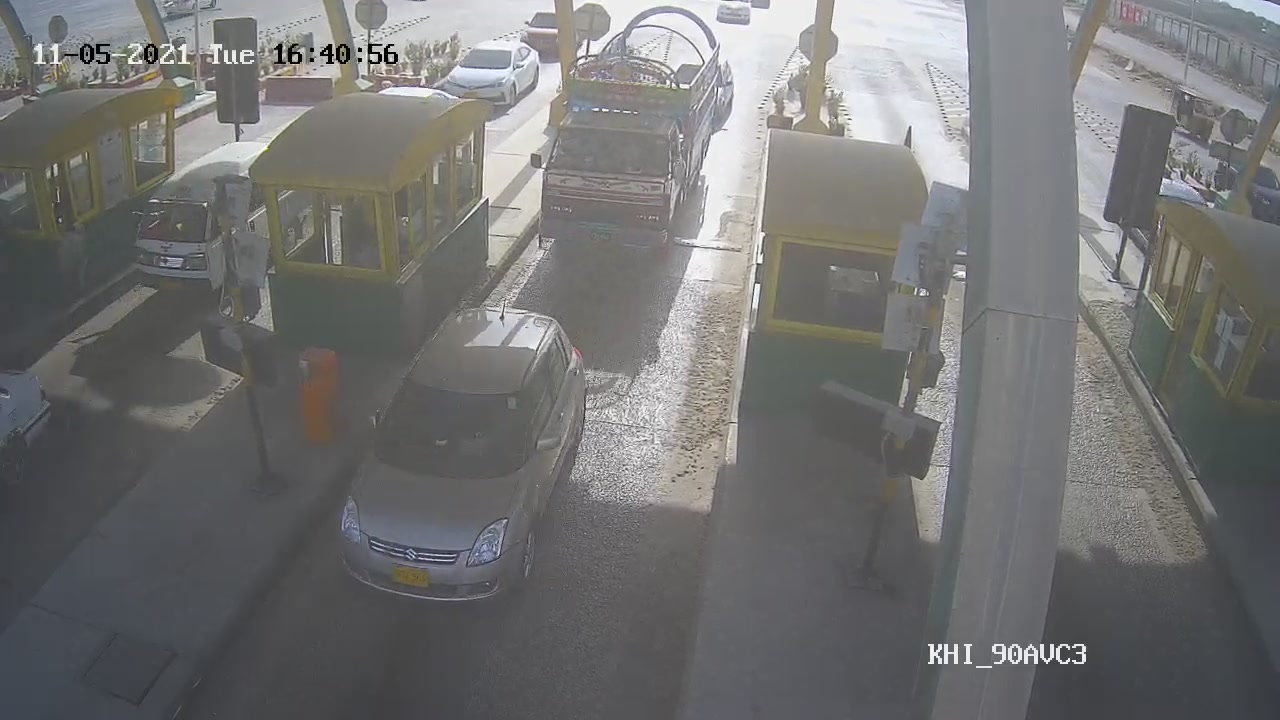F5: (534, 2, 732, 259)
